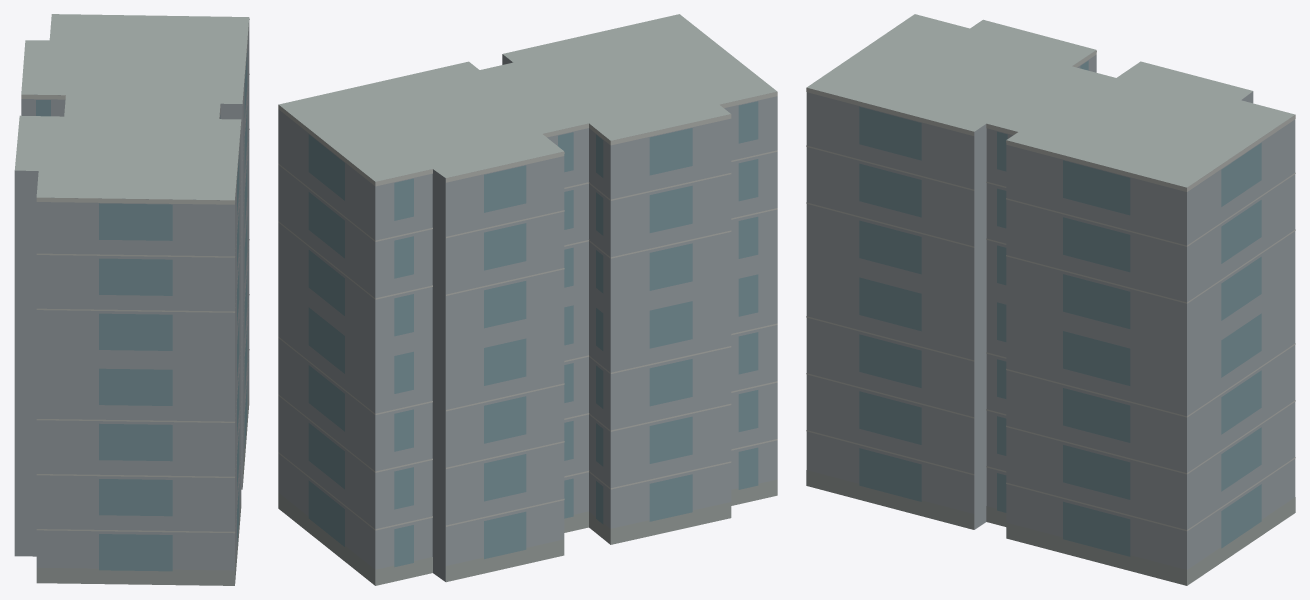
The model's file is survey-upis-32788298.glb.
3 renders of one model, left to right at view 1: azimuth 30°, elevation 25°; view 2: azimuth 150°, elevation 25°; view 3: azimuth 270°, elevation 25°, orthographic. The views are drawn at different scales.
Parts seen in each view (by area): view 1: survey-upis-32788298.tmp; view 2: survey-upis-32788298.tmp; view 3: survey-upis-32788298.tmp.
Part boxes in pixels (x1,y1,x2,y2): survey-upis-32788298.tmp: (14,14,249,585); survey-upis-32788298.tmp: (278,14,777,585); survey-upis-32788298.tmp: (806,14,1295,585).
Bounding box in the file's own units: 19.98 × 21.35 × 23.78.
